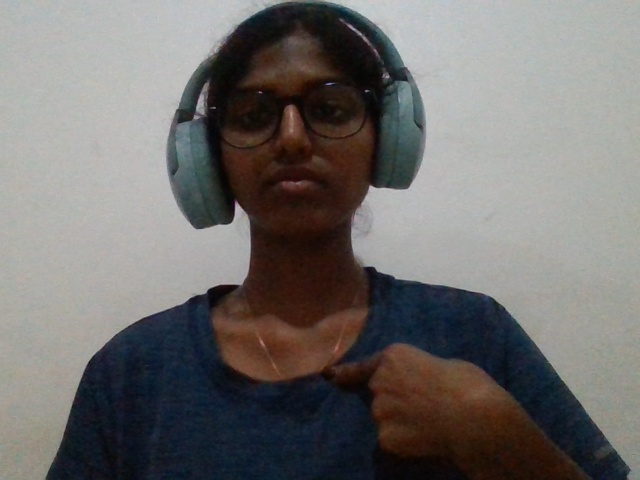Me: (284, 317, 565, 480)
